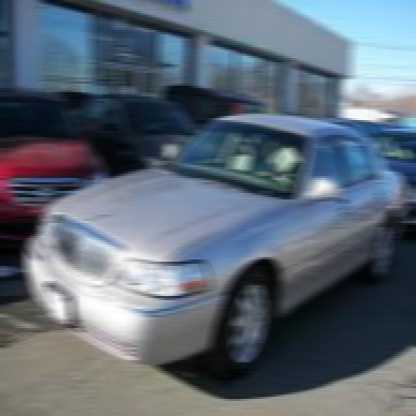Vehicle: (26, 112, 414, 376)
